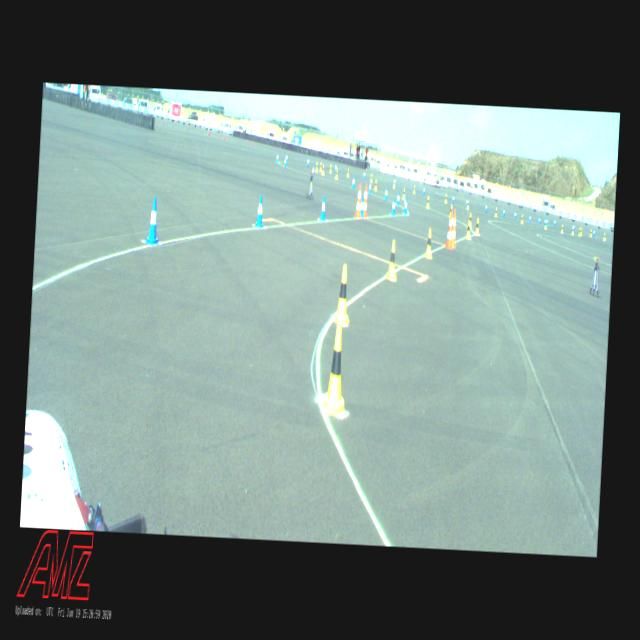blue_cone: (145, 197, 160, 246), (254, 194, 264, 227), (320, 196, 327, 220), (360, 196, 366, 218), (390, 198, 396, 215), (403, 196, 408, 214), (396, 192, 400, 206), (384, 188, 388, 200), (352, 176, 355, 188), (369, 182, 372, 194), (312, 165, 315, 176), (284, 157, 286, 167), (452, 194, 454, 203), (529, 214, 531, 223), (485, 203, 487, 212), (514, 210, 516, 219), (538, 216, 540, 224), (503, 208, 505, 216), (276, 154, 278, 162), (594, 229, 596, 237), (335, 164, 337, 172), (286, 154, 288, 162), (307, 158, 309, 166), (364, 171, 366, 179), (466, 198, 468, 206), (423, 187, 425, 195)
large_orange_cone: (444, 210, 454, 250), (355, 184, 363, 218), (452, 210, 458, 247), (363, 184, 369, 218)
yellow_cone: (322, 322, 349, 413), (334, 264, 352, 324), (387, 240, 399, 279), (425, 229, 433, 258), (466, 220, 472, 240), (475, 217, 480, 235), (426, 195, 430, 208), (373, 180, 378, 190), (402, 188, 406, 200), (520, 214, 524, 224), (335, 168, 338, 179), (470, 212, 472, 228), (315, 162, 318, 172), (603, 232, 606, 242), (393, 178, 396, 188), (450, 204, 452, 218), (322, 164, 324, 175), (590, 228, 592, 238), (445, 194, 447, 204), (320, 162, 322, 172), (496, 207, 498, 217), (370, 173, 372, 183), (545, 220, 547, 230), (348, 168, 350, 178), (466, 200, 468, 210), (561, 224, 563, 233), (572, 226, 574, 235), (578, 227, 580, 236), (414, 185, 416, 194), (330, 164, 332, 173), (580, 227, 582, 236)
